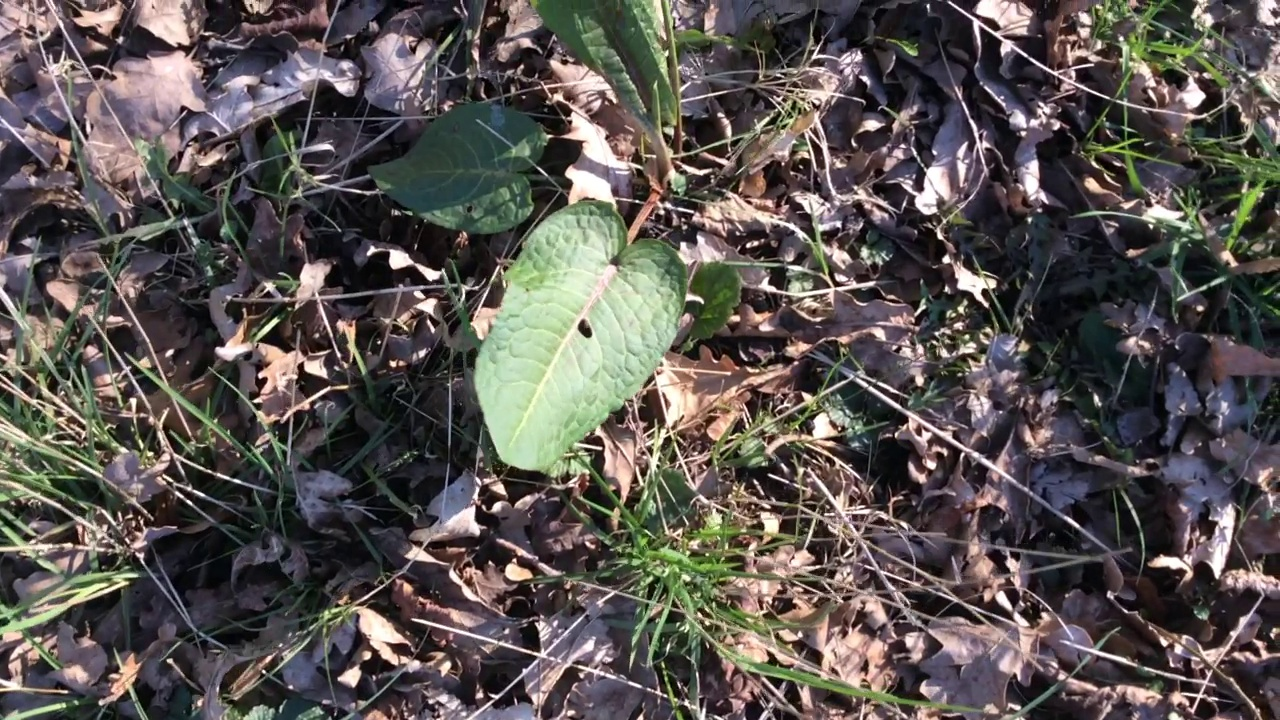rumex: (368, 1, 743, 475)
